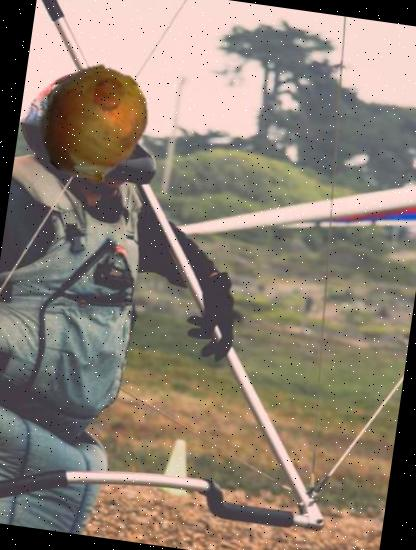Onion: (29, 58, 162, 190)
